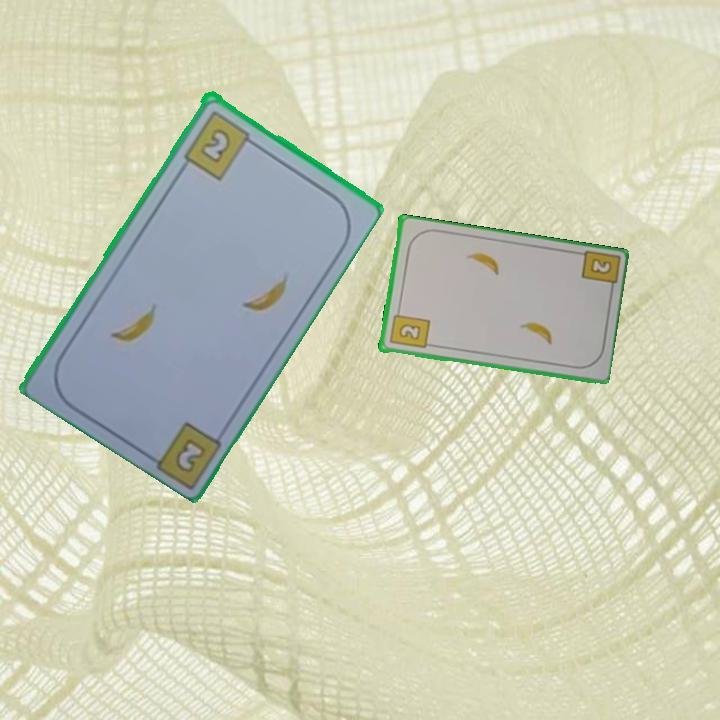2b: (180, 106, 259, 182), (386, 305, 432, 352), (174, 438, 205, 473), (586, 255, 614, 278)
